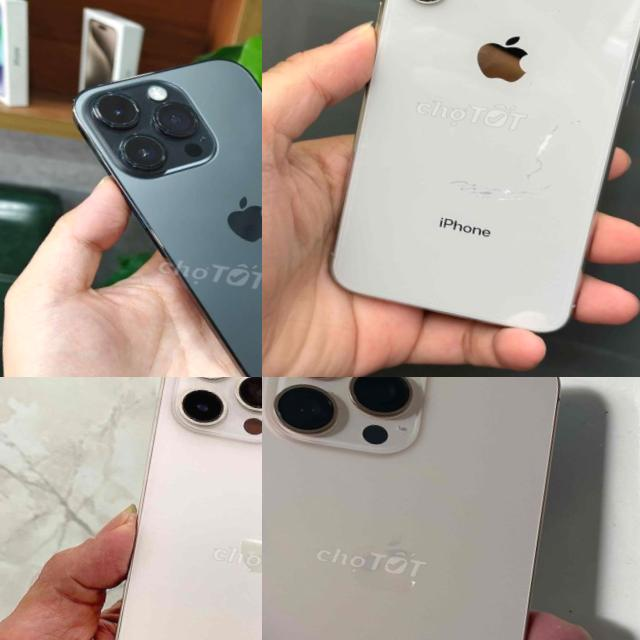gen_12_13: (92, 377, 262, 640)
gen_14: (24, 29, 262, 377)
gen_16: (262, 377, 559, 640)
gen_x_xs: (330, 0, 640, 331)
scratch: (435, 152, 538, 218), (513, 113, 567, 203), (322, 384, 348, 404), (407, 0, 442, 11)
